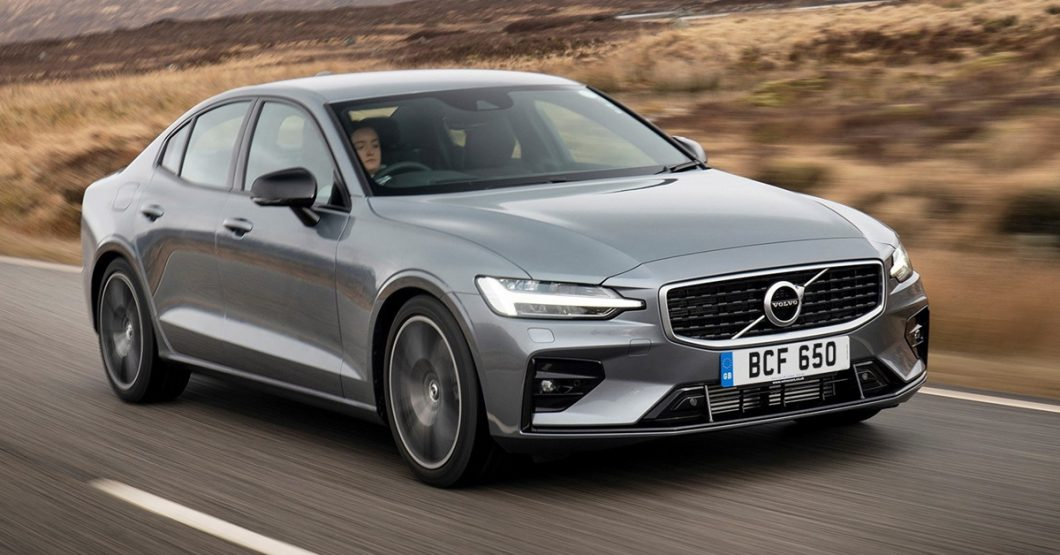sedan: (75, 61, 935, 492)
